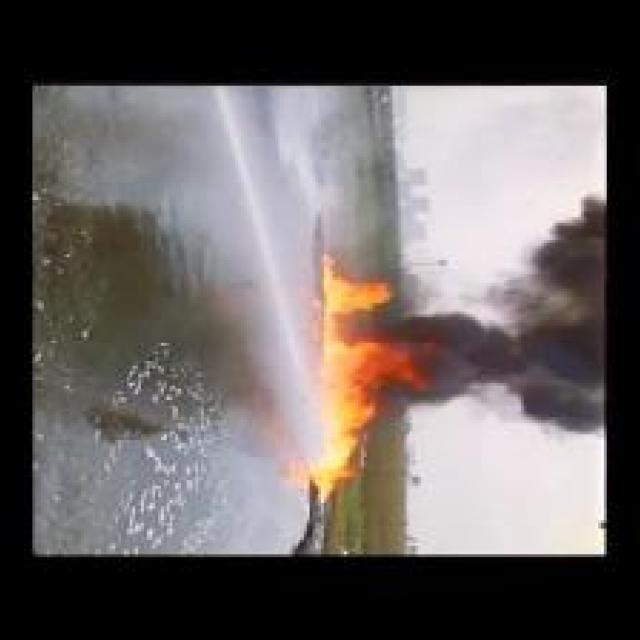Fire: (319, 258, 432, 502)
